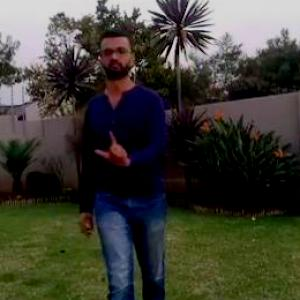land_hand: (92, 124, 134, 170)
